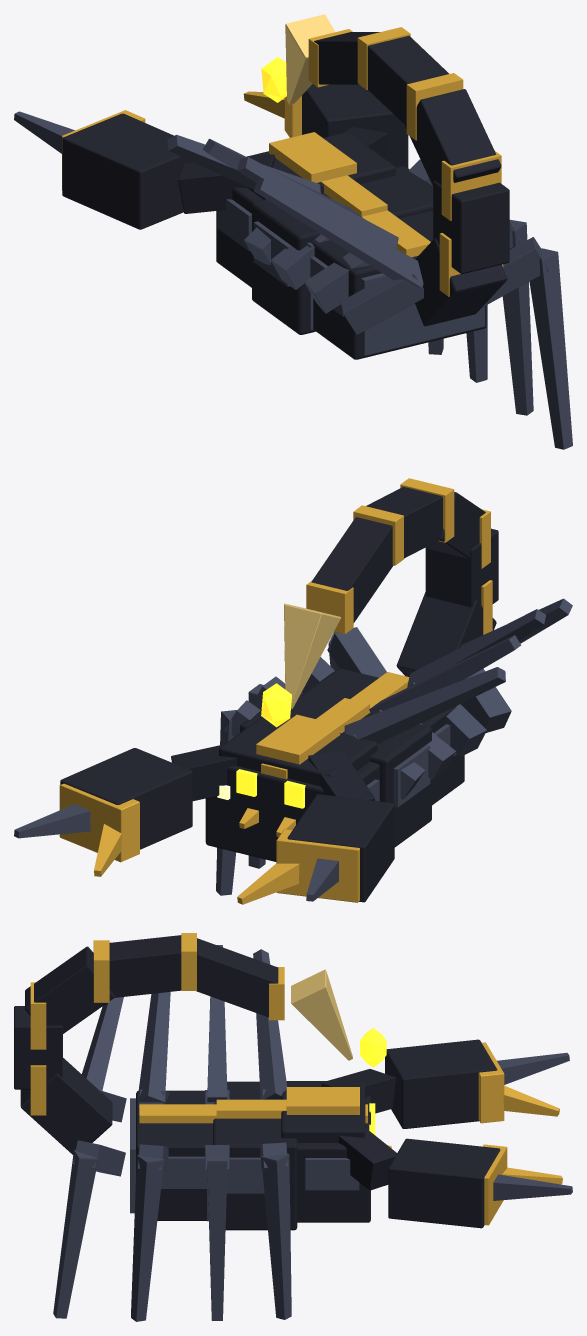
The model's file is scorpio.glb.
The picture shows the model from 3 angles, top to bottom: view 1: azimuth 30°, elevation 25°; view 2: azimuth 150°, elevation 25°; view 3: azimuth 270°, elevation 25°; orthographic projection. The views are drawn at different scales.
Visible parts, largest first — view 1: tail, body, arm.R, leg.BR, leg.BL, arm.L, head, leg.FR, leg.FL; view 2: tail, body, arm.L, arm.R, head, leg.FR, leg.BR, leg.FL, leg.BL; view 3: tail, body, arm.L, arm.R, leg.BL, leg.FL, leg.BR, head, leg.FR.
Boxes of the visible parts, x1=… form: tail: x1=261, y1=14, x2=509, y2=326; body: x1=216, y1=166, x2=486, y2=359; arm.R: x1=14, y1=110, x2=275, y2=229; leg.BR: x1=237, y1=157, x2=423, y2=334; leg.BL: x1=482, y1=219, x2=572, y2=449; arm.L: x1=243, y1=84, x2=408, y2=167; head: x1=246, y1=132, x2=395, y2=199; leg.FR: x1=167, y1=134, x2=361, y2=289; leg.FL: x1=408, y1=159, x2=487, y2=382; tail: x1=261, y1=478, x2=498, y2=727; body: x1=205, y1=668, x2=464, y2=861; arm.L: x1=14, y1=744, x2=236, y2=876; arm.R: x1=237, y1=750, x2=394, y2=904; head: x1=217, y1=714, x2=377, y2=837; leg.FR: x1=344, y1=635, x2=521, y2=799; leg.BR: x1=407, y1=598, x2=572, y2=756; leg.FL: x1=216, y1=676, x2=285, y2=895; leg.BL: x1=300, y1=627, x2=386, y2=695; tail: x1=14, y1=933, x2=386, y2=1154; body: x1=130, y1=1081, x2=370, y2=1230; arm.L: x1=338, y1=1128, x2=572, y2=1228; arm.R: x1=321, y1=1039, x2=569, y2=1128; leg.BL: x1=53, y1=1140, x2=168, y2=1321; leg.FL: x1=205, y1=1142, x2=291, y2=1320; leg.BR: x1=82, y1=992, x2=170, y2=1122; head: x1=281, y1=1081, x2=391, y2=1148; leg.FR: x1=205, y1=945, x2=287, y2=1104.
Bounding box in the file's own units: 0.7115 × 0.772 × 1.18.
